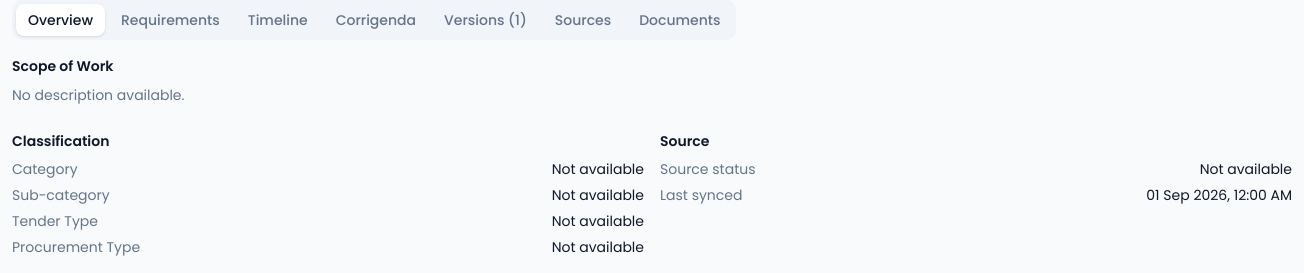
TenderTabs › renders versions (with field diffs) and provenance from the API data
Click the tab "Versions (1)": coordinates (485, 20) [432,4,539,36]
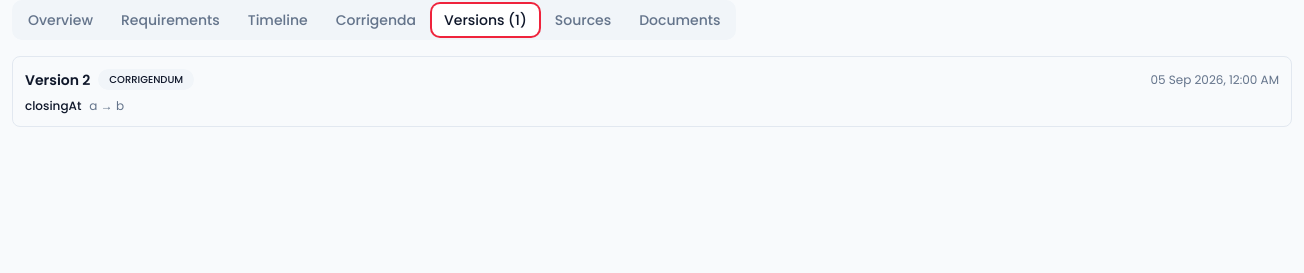
Expected: the text "Version 2" is shown, [25,70,90,90]
Expected: the text "CORRIGENDUM" is shown, [98,69,194,90]
Expected: the text "closingAt" is shown, [25,98,81,114]
Click the tab "Sources": coordinates (583, 20) [543,4,623,36]
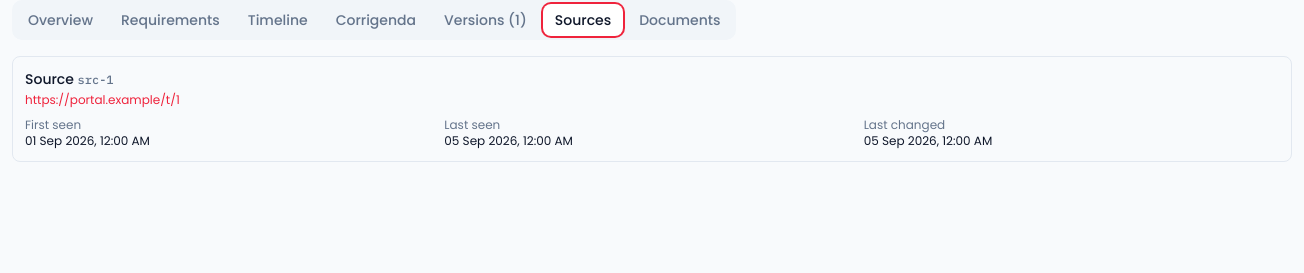
Expected: the text "src-1" is shown, [78,72,114,87]
Expected: the link "https://portal.example/t/1" is shown, [25,91,180,108]
